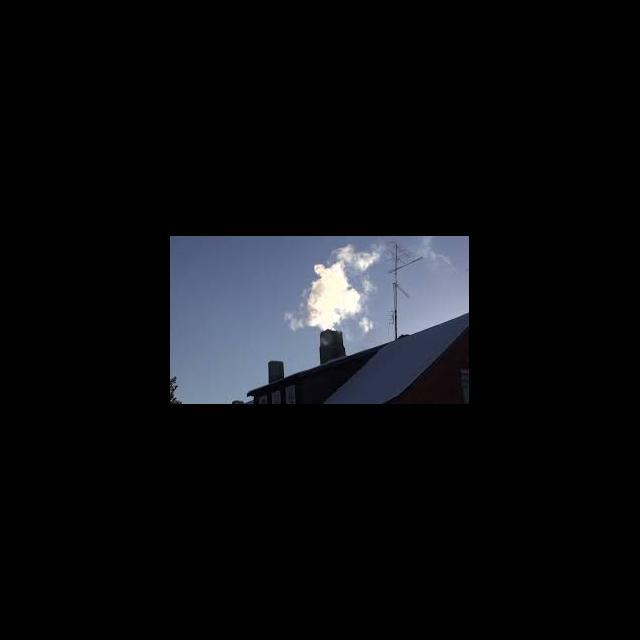Smoke: (282, 242, 378, 329)
